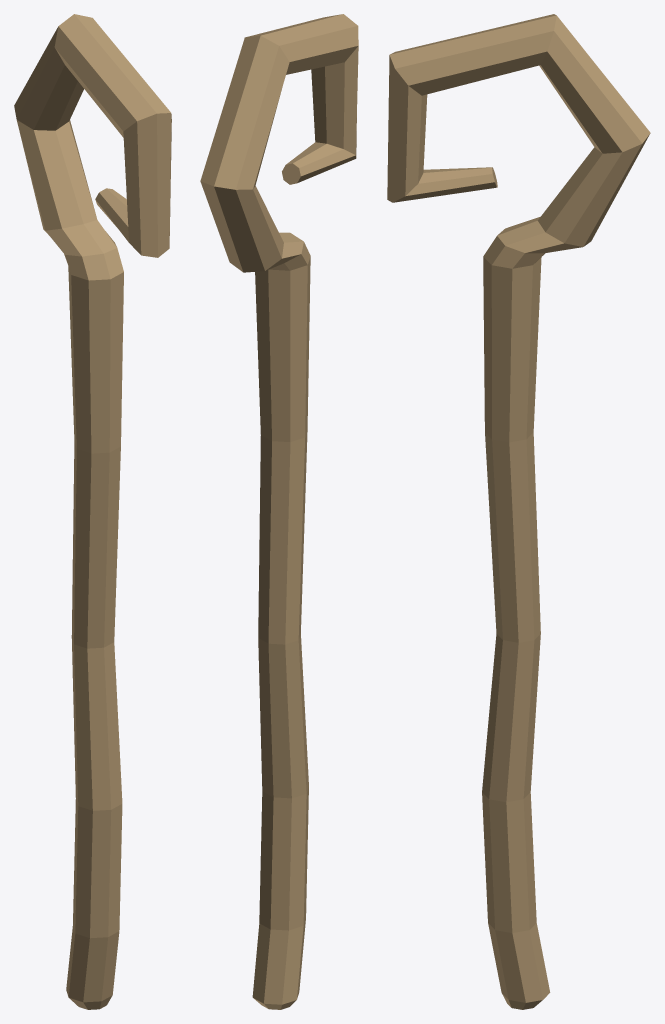
The model's file is q_wooden_staff.gltf.
The picture shows the model from 3 angles, left to right: view 1: azimuth 30°, elevation 25°; view 2: azimuth 150°, elevation 25°; view 3: azimuth 270°, elevation 25°; orthographic projection.
Parts seen in each view (by area): view 1: WoodenStaff; view 2: WoodenStaff; view 3: WoodenStaff.
Part boxes in pixels (x1,y1,x2,y2): WoodenStaff: [14, 14, 171, 1009]; WoodenStaff: [200, 14, 358, 1009]; WoodenStaff: [387, 14, 650, 1009].
Bounding box in the file's own units: 0.083 × 1.55 × 0.3746.
